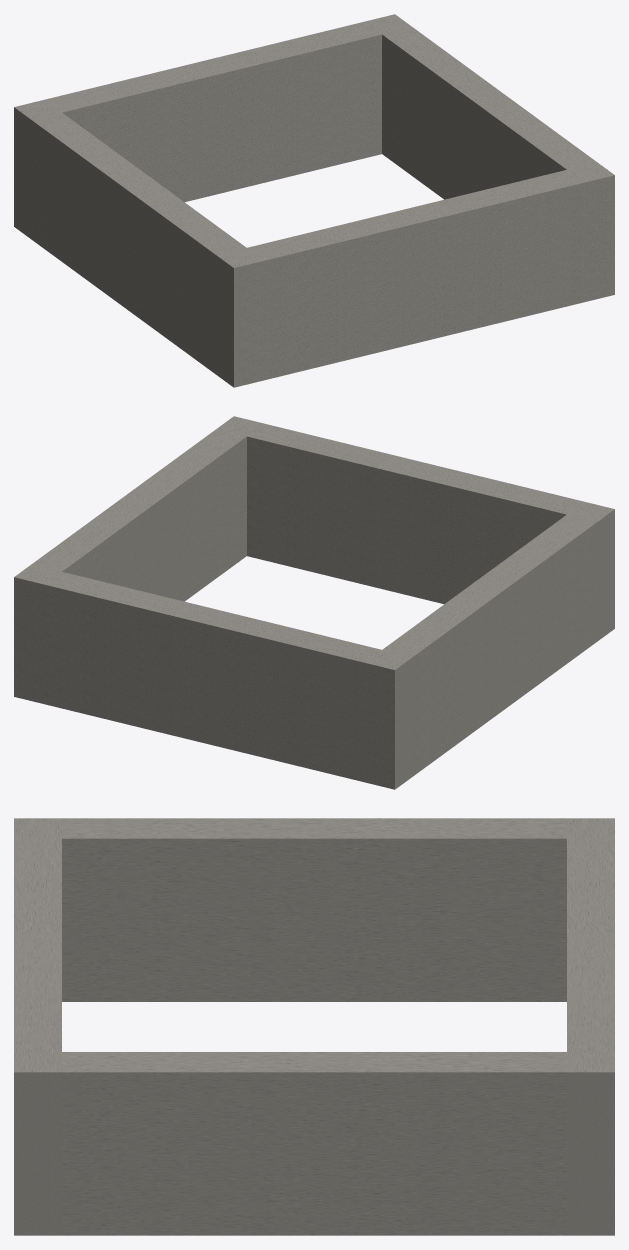
File: synthetic_specimen.obj
3 renders of one model, top to bottom at view 1: azimuth 30°, elevation 25°; view 2: azimuth 150°, elevation 25°; view 3: azimuth 270°, elevation 25°, orthographic. The views are drawn at different scales.
Visible parts, largest first — view 1: layer_6_wall_2, layer_6_wall_1, layer_6_wall_3, layer_6_wall_4, layer_2_wall_2, layer_5_wall_2, layer_1_wall_2, layer_4_wall_2, layer_3_wall_2, layer_5_wall_1, layer_4_wall_1, layer_3_wall_1 (+12 smaller); view 2: layer_6_wall_1, layer_6_wall_2, layer_6_wall_3, layer_6_wall_4, layer_2_wall_1, layer_5_wall_1, layer_1_wall_1, layer_4_wall_1, layer_3_wall_1, layer_5_wall_2, layer_4_wall_2, layer_3_wall_2 (+12 smaller); view 3: layer_6_wall_3, layer_6_wall_4, layer_1_wall_3, layer_1_wall_4, layer_2_wall_3, layer_2_wall_4, layer_3_wall_3, layer_3_wall_4, layer_4_wall_3, layer_4_wall_4, layer_5_wall_4, layer_5_wall_3 (+12 smaller).
Boxes of the visible parts, x1,y1,x2,y2 form: layer_6_wall_2: [216, 162, 614, 287]; layer_6_wall_1: [14, 14, 411, 139]; layer_6_wall_3: [31, 112, 246, 274]; layer_6_wall_4: [382, 27, 596, 174]; layer_2_wall_2: [216, 255, 614, 367]; layer_5_wall_2: [216, 195, 614, 307]; layer_1_wall_2: [216, 275, 614, 387]; layer_4_wall_2: [216, 215, 614, 327]; layer_3_wall_2: [216, 235, 614, 347]; layer_5_wall_1: [14, 54, 381, 159]; layer_4_wall_1: [14, 74, 381, 179]; layer_3_wall_1: [14, 94, 381, 199]; layer_6_wall_1: [14, 564, 412, 689]; layer_6_wall_2: [217, 416, 614, 541]; layer_6_wall_3: [382, 514, 597, 676]; layer_6_wall_4: [32, 429, 246, 576]; layer_2_wall_1: [14, 657, 412, 769]; layer_5_wall_1: [14, 597, 412, 709]; layer_1_wall_1: [14, 677, 412, 789]; layer_4_wall_1: [14, 617, 412, 729]; layer_3_wall_1: [14, 637, 412, 749]; layer_5_wall_2: [247, 456, 614, 561]; layer_4_wall_2: [247, 476, 614, 581]; layer_3_wall_2: [247, 496, 614, 601]; layer_6_wall_3: [62, 818, 566, 865]; layer_6_wall_4: [62, 1052, 566, 1099]; layer_1_wall_3: [62, 974, 566, 1001]; layer_1_wall_4: [62, 1208, 566, 1235]; layer_2_wall_3: [62, 947, 566, 974]; layer_2_wall_4: [62, 1181, 566, 1208]; layer_3_wall_3: [62, 920, 566, 947]; layer_3_wall_4: [62, 1154, 566, 1181]; layer_4_wall_3: [62, 893, 566, 920]; layer_4_wall_4: [62, 1126, 566, 1153]; layer_5_wall_4: [62, 1099, 566, 1126]; layer_5_wall_3: [62, 866, 566, 892].
Size of the model in its own units: 0.5 by 0.15 by 0.5.
Materials: 1 (1 with a texture image).
